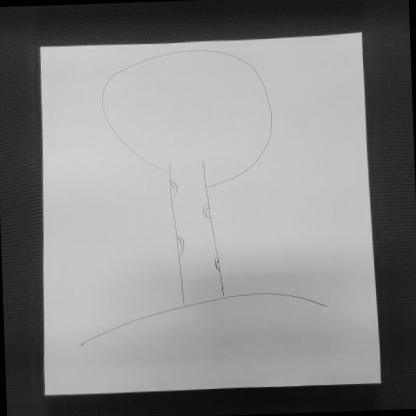crown_mushroom: (102, 48, 275, 189)
knot: (176, 236, 186, 258), (168, 179, 178, 198), (202, 203, 211, 218), (214, 257, 221, 271)
root_none: (174, 291, 235, 317)
trunk_straight: (170, 191, 219, 274)
